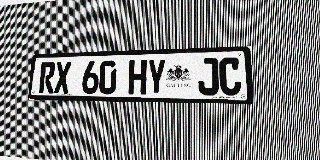0: (98, 60, 117, 94)
6: (82, 61, 100, 94)
C: (219, 57, 241, 96)
H: (128, 60, 147, 95)
J: (198, 58, 219, 95)
R: (39, 62, 56, 94)
X: (54, 62, 71, 94)
Y: (147, 59, 166, 95)
